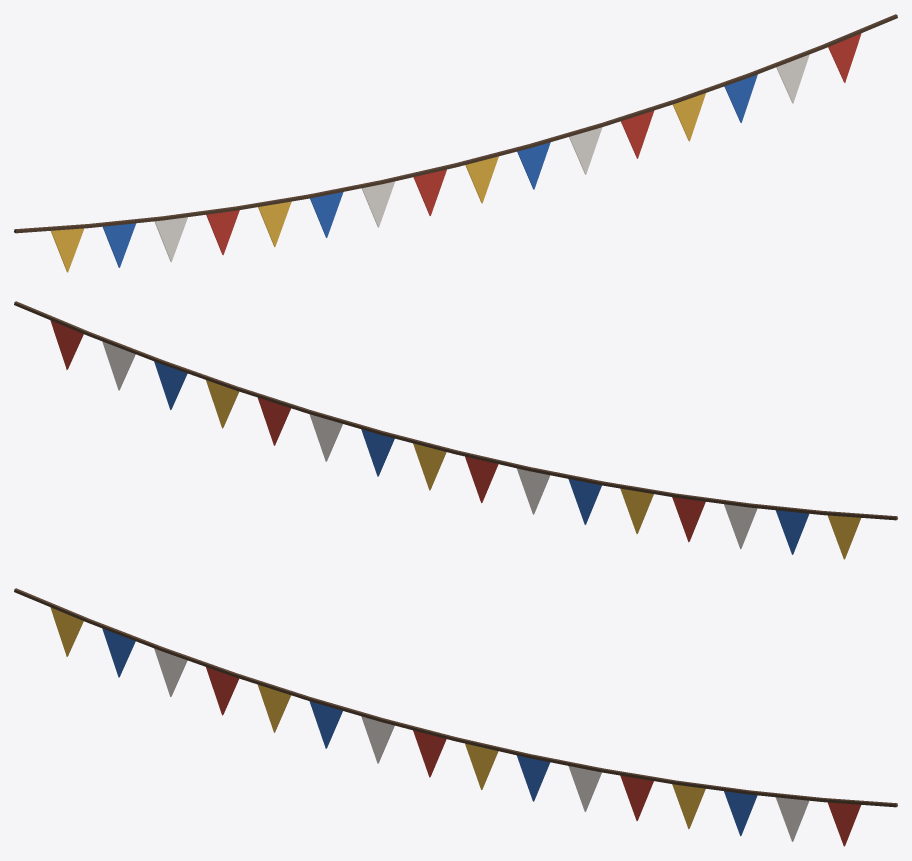
The model's file is CatCafe_Square_RallyBuntingSide.glb.
3 views of the same model, one above another, from view 1: azimuth 30°, elevation 25°; view 2: azimuth 150°, elevation 25°; view 3: azimuth 330°, elevation 25° (orthographic).
Parts seen in each view (by area): view 1: CatCafe_Square_RallyBuntingSide, CatCafe_Square_RallyBuntingSide_Flag15_Pennant, CatCafe_Square_RallyBuntingSide_Flag16_Pennant, CatCafe_Square_RallyBuntingSide_Flag14_Pennant, CatCafe_Square_RallyBuntingSide_Flag12_Pennant, CatCafe_Square_RallyBuntingSide_Flag13_Pennant, CatCafe_Square_RallyBuntingSide_Flag08_Pennant, CatCafe_Square_RallyBuntingSide_Flag09_Pennant, CatCafe_Square_RallyBuntingSide_Flag03_Pennant, CatCafe_Square_RallyBuntingSide_Flag10_Pennant, CatCafe_Square_RallyBuntingSide_Flag05_Pennant, CatCafe_Square_RallyBuntingSide_Flag06_Pennant (+5 smaller); view 2: CatCafe_Square_RallyBuntingSide, CatCafe_Square_RallyBuntingSide_Flag15_Pennant, CatCafe_Square_RallyBuntingSide_Flag16_Pennant, CatCafe_Square_RallyBuntingSide_Flag14_Pennant, CatCafe_Square_RallyBuntingSide_Flag12_Pennant, CatCafe_Square_RallyBuntingSide_Flag13_Pennant, CatCafe_Square_RallyBuntingSide_Flag08_Pennant, CatCafe_Square_RallyBuntingSide_Flag09_Pennant, CatCafe_Square_RallyBuntingSide_Flag03_Pennant, CatCafe_Square_RallyBuntingSide_Flag10_Pennant, CatCafe_Square_RallyBuntingSide_Flag05_Pennant, CatCafe_Square_RallyBuntingSide_Flag06_Pennant (+5 smaller); view 3: CatCafe_Square_RallyBuntingSide, CatCafe_Square_RallyBuntingSide_Flag02_Pennant, CatCafe_Square_RallyBuntingSide_Flag01_Pennant, CatCafe_Square_RallyBuntingSide_Flag03_Pennant, CatCafe_Square_RallyBuntingSide_Flag04_Pennant, CatCafe_Square_RallyBuntingSide_Flag05_Pennant, CatCafe_Square_RallyBuntingSide_Flag09_Pennant, CatCafe_Square_RallyBuntingSide_Flag08_Pennant, CatCafe_Square_RallyBuntingSide_Flag07_Pennant, CatCafe_Square_RallyBuntingSide_Flag14_Pennant, CatCafe_Square_RallyBuntingSide_Flag06_Pennant, CatCafe_Square_RallyBuntingSide_Flag11_Pennant (+5 smaller).
Boxes of the visible parts, left/top/right/bottom form: CatCafe_Square_RallyBuntingSide: left=14, top=14, right=897, bottom=233; CatCafe_Square_RallyBuntingSide_Flag15_Pennant: left=102, top=223, right=135, bottom=267; CatCafe_Square_RallyBuntingSide_Flag16_Pennant: left=51, top=228, right=84, bottom=272; CatCafe_Square_RallyBuntingSide_Flag14_Pennant: left=154, top=217, right=187, bottom=262; CatCafe_Square_RallyBuntingSide_Flag12_Pennant: left=258, top=201, right=291, bottom=246; CatCafe_Square_RallyBuntingSide_Flag13_Pennant: left=206, top=210, right=239, bottom=255; CatCafe_Square_RallyBuntingSide_Flag08_Pennant: left=465, top=156, right=498, bottom=203; CatCafe_Square_RallyBuntingSide_Flag09_Pennant: left=413, top=169, right=446, bottom=215; CatCafe_Square_RallyBuntingSide_Flag03_Pennant: left=724, top=74, right=757, bottom=122; CatCafe_Square_RallyBuntingSide_Flag10_Pennant: left=361, top=181, right=395, bottom=227; CatCafe_Square_RallyBuntingSide_Flag05_Pennant: left=621, top=110, right=653, bottom=158; CatCafe_Square_RallyBuntingSide_Flag06_Pennant: left=569, top=127, right=602, bottom=174; CatCafe_Square_RallyBuntingSide: left=14, top=301, right=897, bottom=520; CatCafe_Square_RallyBuntingSide_Flag15_Pennant: left=776, top=510, right=809, bottom=554; CatCafe_Square_RallyBuntingSide_Flag16_Pennant: left=827, top=515, right=860, bottom=559; CatCafe_Square_RallyBuntingSide_Flag14_Pennant: left=724, top=504, right=757, bottom=549; CatCafe_Square_RallyBuntingSide_Flag12_Pennant: left=620, top=488, right=653, bottom=533; CatCafe_Square_RallyBuntingSide_Flag13_Pennant: left=672, top=497, right=705, bottom=542; CatCafe_Square_RallyBuntingSide_Flag08_Pennant: left=413, top=443, right=446, bottom=490; CatCafe_Square_RallyBuntingSide_Flag09_Pennant: left=465, top=456, right=498, bottom=502; CatCafe_Square_RallyBuntingSide_Flag03_Pennant: left=154, top=361, right=187, bottom=409; CatCafe_Square_RallyBuntingSide_Flag10_Pennant: left=516, top=468, right=550, bottom=514; CatCafe_Square_RallyBuntingSide_Flag05_Pennant: left=258, top=397, right=290, bottom=445; CatCafe_Square_RallyBuntingSide_Flag06_Pennant: left=309, top=414, right=342, bottom=461; CatCafe_Square_RallyBuntingSide: left=14, top=588, right=897, bottom=807; CatCafe_Square_RallyBuntingSide_Flag02_Pennant: left=776, top=797, right=809, bottom=841; CatCafe_Square_RallyBuntingSide_Flag01_Pennant: left=827, top=802, right=860, bottom=846; CatCafe_Square_RallyBuntingSide_Flag03_Pennant: left=724, top=791, right=757, bottom=836; CatCafe_Square_RallyBuntingSide_Flag04_Pennant: left=672, top=784, right=705, bottom=829; CatCafe_Square_RallyBuntingSide_Flag05_Pennant: left=620, top=775, right=653, bottom=820; CatCafe_Square_RallyBuntingSide_Flag09_Pennant: left=413, top=730, right=446, bottom=777; CatCafe_Square_RallyBuntingSide_Flag08_Pennant: left=465, top=743, right=498, bottom=789; CatCafe_Square_RallyBuntingSide_Flag07_Pennant: left=516, top=755, right=550, bottom=801; CatCafe_Square_RallyBuntingSide_Flag14_Pennant: left=154, top=648, right=187, bottom=696; CatCafe_Square_RallyBuntingSide_Flag06_Pennant: left=568, top=766, right=601, bottom=811; CatCafe_Square_RallyBuntingSide_Flag11_Pennant: left=309, top=701, right=342, bottom=748.
Size of the model in its own units: 22.31 by 2.11 by 0.07.
Materials: 1 (1 with a texture image).
